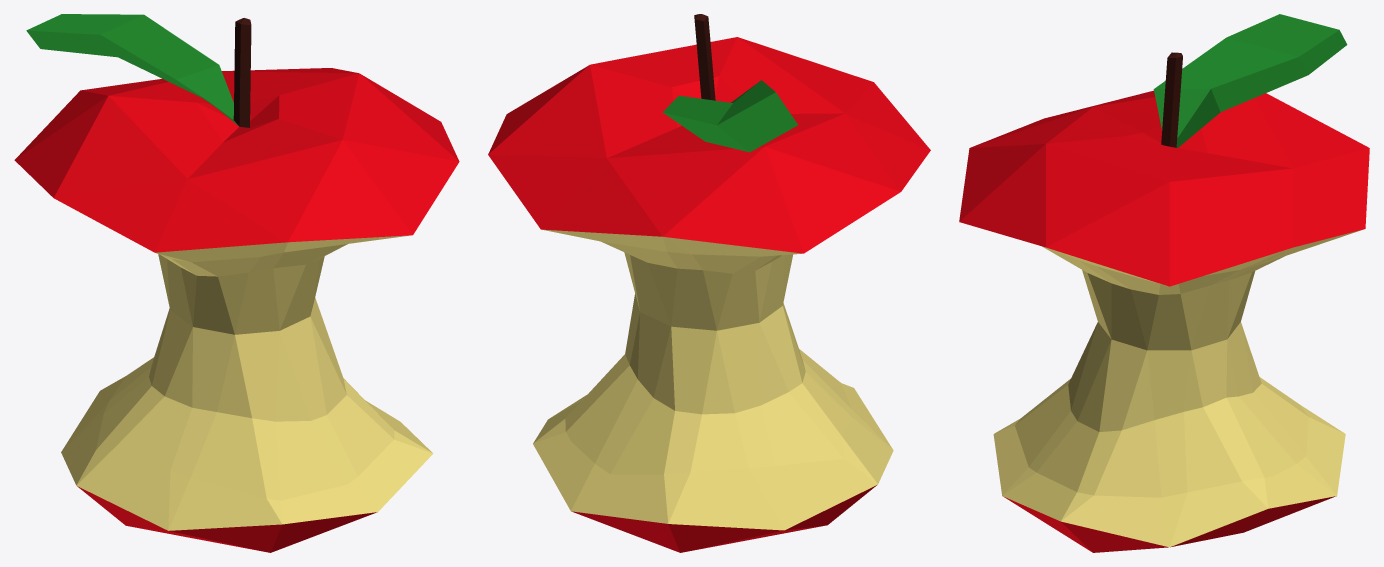
The model's file is apple_trash_low_poly.glb.
The picture shows the model from 3 angles, left to right: view 1: azimuth 30°, elevation 25°; view 2: azimuth 150°, elevation 25°; view 3: azimuth 270°, elevation 25°; orthographic projection. The views are drawn at different scales.
Visible parts, largest first — view 1: Icosphere; view 2: Icosphere; view 3: Icosphere.
Part boxes in pixels (x1=…): Icosphere: x1=14, y1=14, x2=459, y2=552; Icosphere: x1=488, y1=14, x2=930, y2=552; Icosphere: x1=959, y1=14, x2=1369, y2=552.
Bounding box in the file's own units: 5.99 × 7.44 × 5.69.
